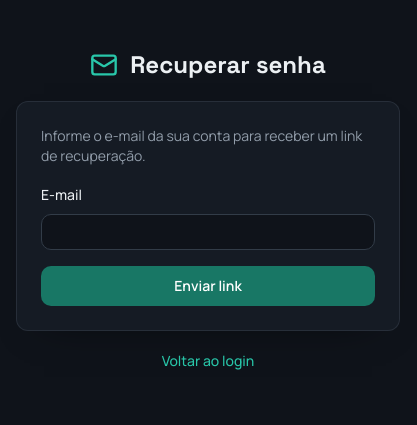
Test: PasswordRecovery account self-service › offers a neutral email confirmation without leaking account existence
Type "cliente@example.com" into the field labelled "E-mail" at (208, 232), box 41,214 -> 375,250
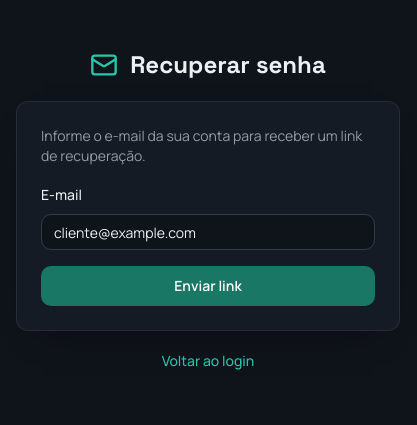
Click the button "Enviar link" at (208, 286), box 41,266 -> 375,306
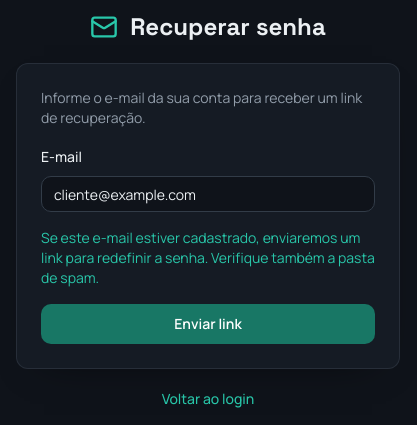
Expected: the message shows "Se este e-mail estiver cadastrado", 41,228 -> 375,287
